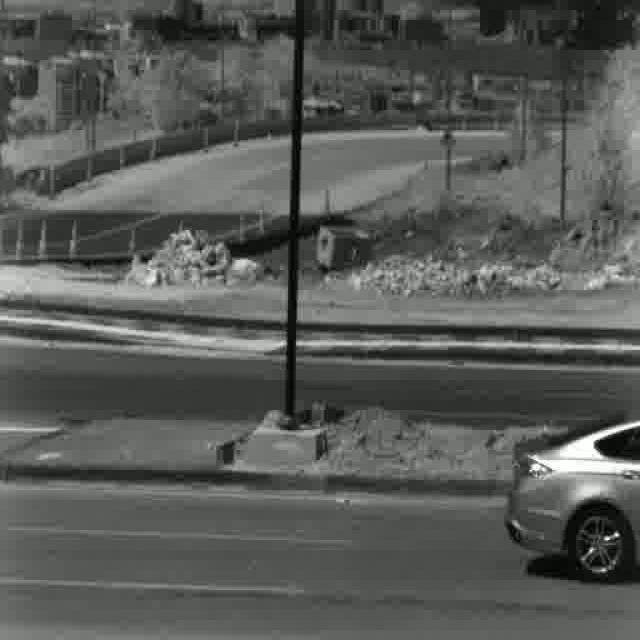Car: (504, 420, 640, 574)
